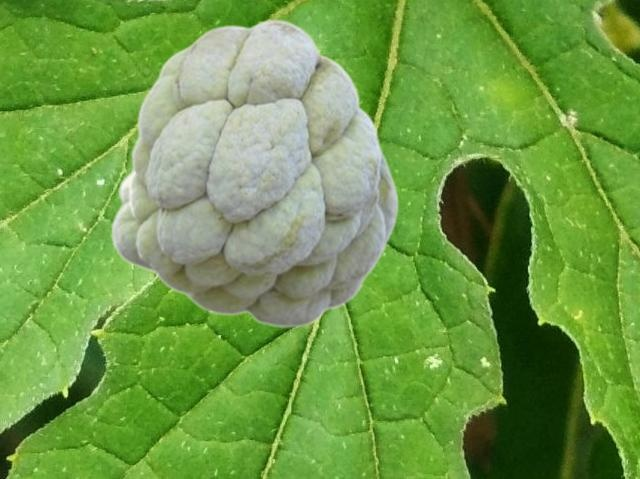atis: (110, 18, 398, 327)
